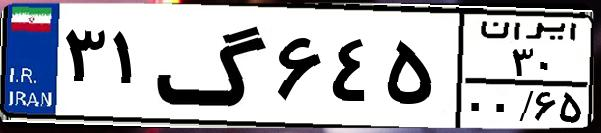0: (537, 27, 568, 80), (470, 70, 495, 125), (495, 70, 520, 125)
1: (110, 28, 156, 98)
3: (57, 26, 110, 100), (508, 27, 537, 80)
4: (330, 28, 385, 110)
5: (385, 28, 445, 110), (560, 70, 590, 125)
6: (270, 28, 330, 110), (535, 70, 560, 125)
گ: (156, 12, 270, 120)
